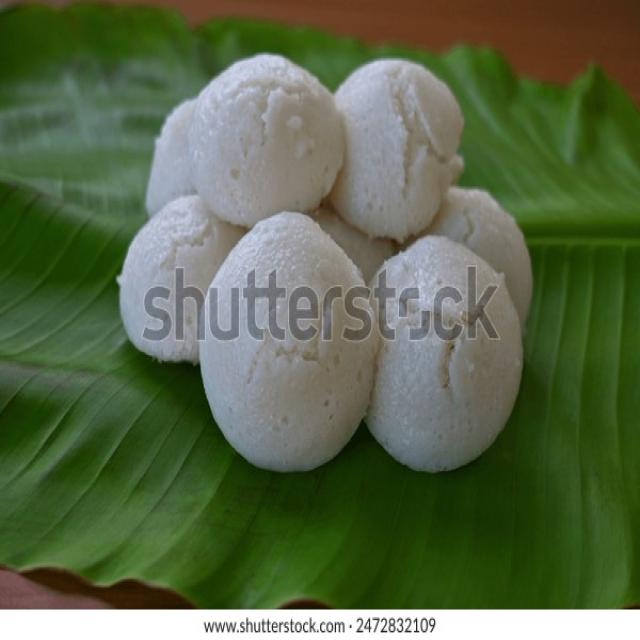IDLI: (117, 52, 537, 477)
